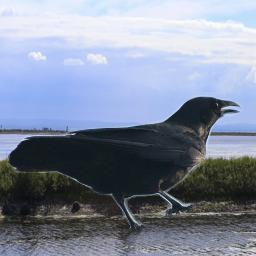Crow: (7, 95, 244, 235)
